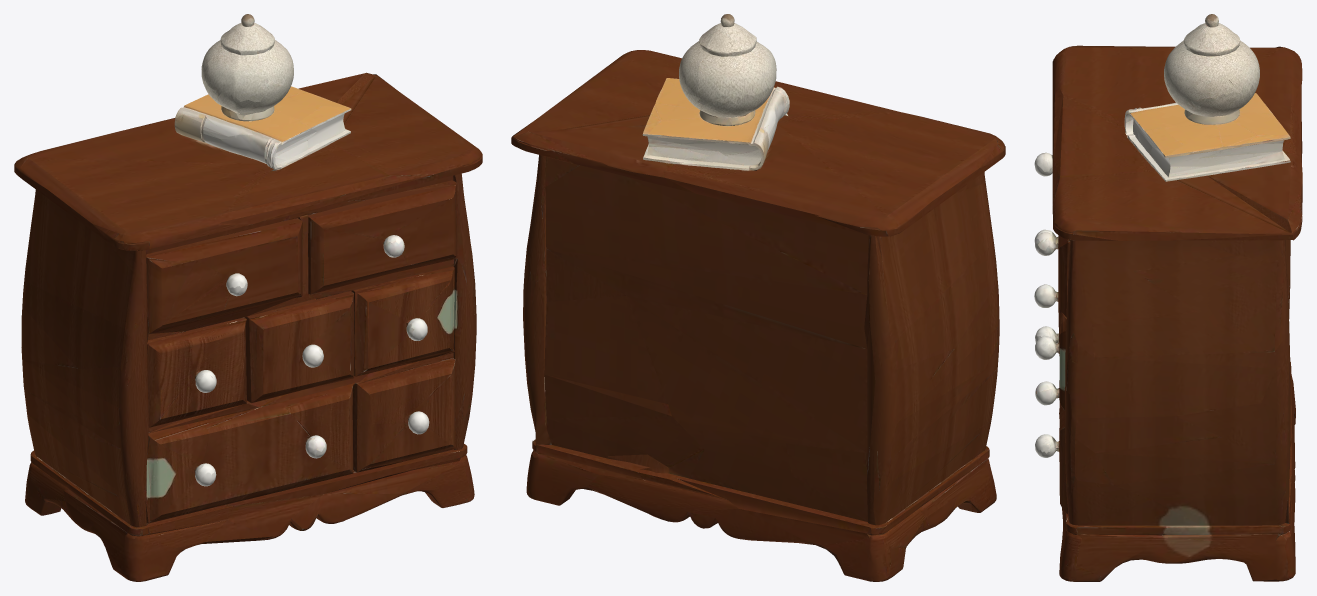
The model's file is hall-cabinet.glb.
3 renders of one model, left to right at view 1: azimuth 30°, elevation 25°; view 2: azimuth 150°, elevation 25°; view 3: azimuth 270°, elevation 25°, orthographic. The views are drawn at different scales.
Size of the model in its own units: 1.55 by 1.9 by 0.9473.
Materials: 1 (1 with a texture image).
